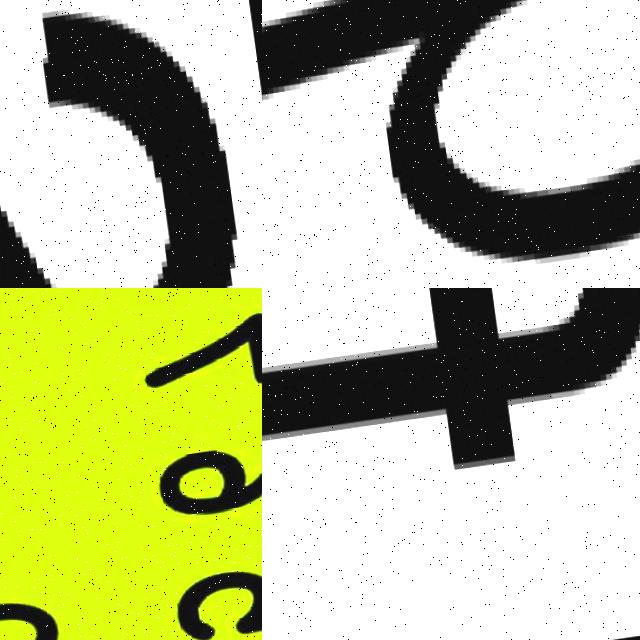0: (0, 584, 94, 640)
5: (156, 548, 262, 640)
6: (139, 426, 262, 535)
7: (125, 302, 262, 406)
F: (262, 288, 640, 528)
Q: (262, 0, 640, 288)
S: (0, 0, 262, 288)
